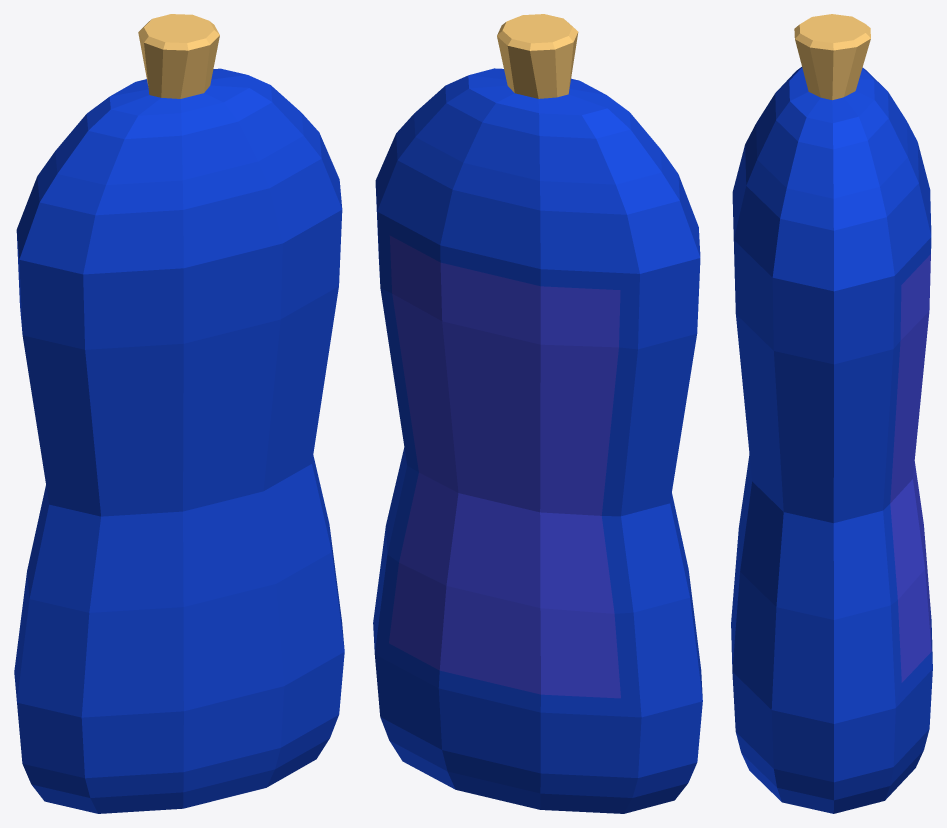
Rendered from Lotion.ButterLight.fbx.
3 views of the same model, side by side, from view 1: azimuth 30°, elevation 25°; view 2: azimuth 150°, elevation 25°; view 3: azimuth 270°, elevation 25° (orthographic). The views are drawn at different scales.
Visible parts, largest first — view 1: Lotion.ButterLight; view 2: Lotion.ButterLight; view 3: Lotion.ButterLight.
Part boxes in pixels (bbox=[...]): Lotion.ButterLight: bbox=[14, 14, 344, 813]; Lotion.ButterLight: bbox=[373, 14, 702, 813]; Lotion.ButterLight: bbox=[731, 14, 932, 813].
Size of the model in its own units: 49.3 by 109 by 27.
